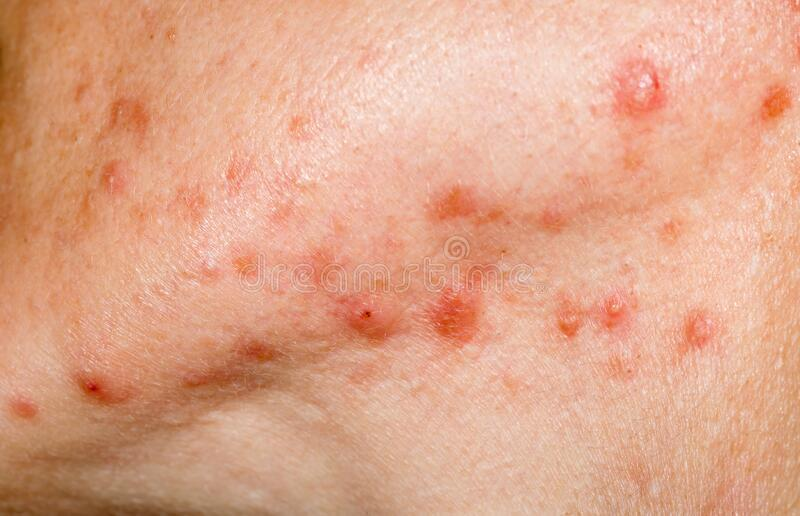blackhead: (67, 120, 103, 166), (143, 229, 173, 271), (88, 410, 119, 441)
cystic: (341, 290, 408, 351)
purulent: (606, 288, 635, 337)
sebo-crystan-conglo: (619, 59, 687, 129)
whitehead: (250, 194, 311, 230)
